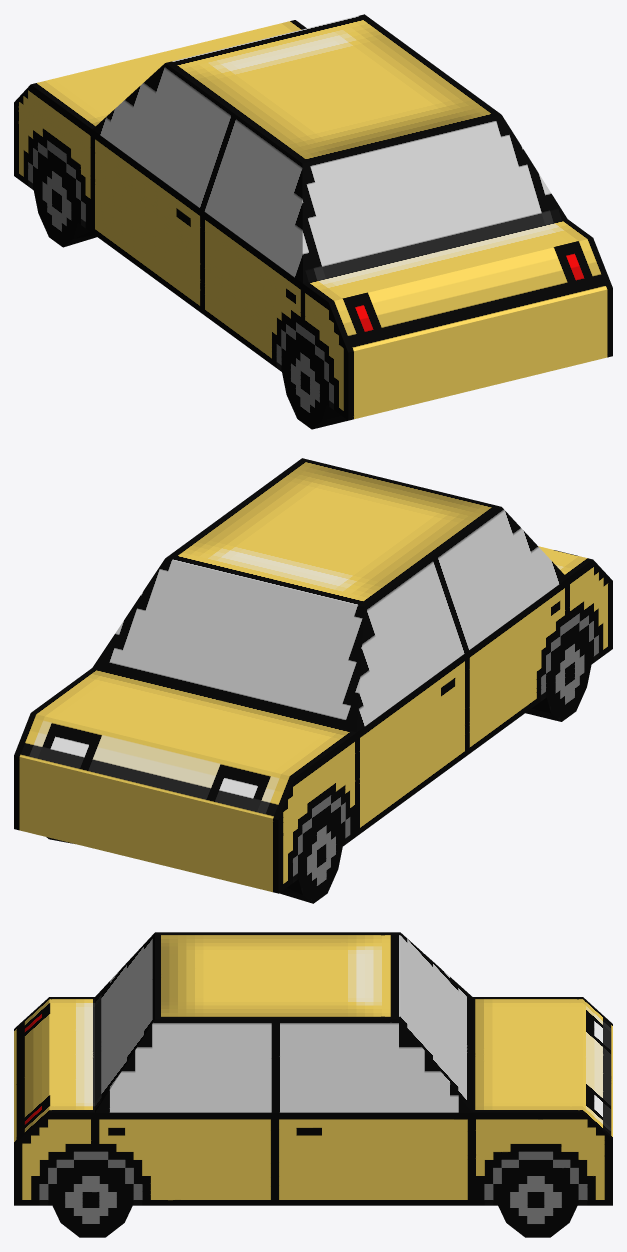
The model's file is car1.FBX.
3 views of the same model, one above another, from view 1: azimuth 30°, elevation 25°; view 2: azimuth 150°, elevation 25°; view 3: azimuth 270°, elevation 25° (orthographic). The views are drawn at different scales.
Parts seen in each view (by area): view 1: Box001, Side, Bottom; view 2: Box001, Side, Bottom; view 3: Box001, Side.
Part boxes in pixels (left/top/right/bottom): Box001: left=31, top=14, right=612, bottom=420; Side: left=14, top=84, right=348, bottom=429; Bottom: left=28, top=180, right=347, bottom=429; Box001: left=14, top=458, right=592, bottom=893; Side: left=278, top=559, right=612, bottom=903; Bottom: left=46, top=653, right=598, bottom=903; Box001: left=14, top=932, right=612, bottom=1144; Side: left=14, top=1112, right=612, bottom=1237.
Bounding box in the file's own units: 32.01 × 26.28 × 70.
Materials: 3 (3 with a texture image).
